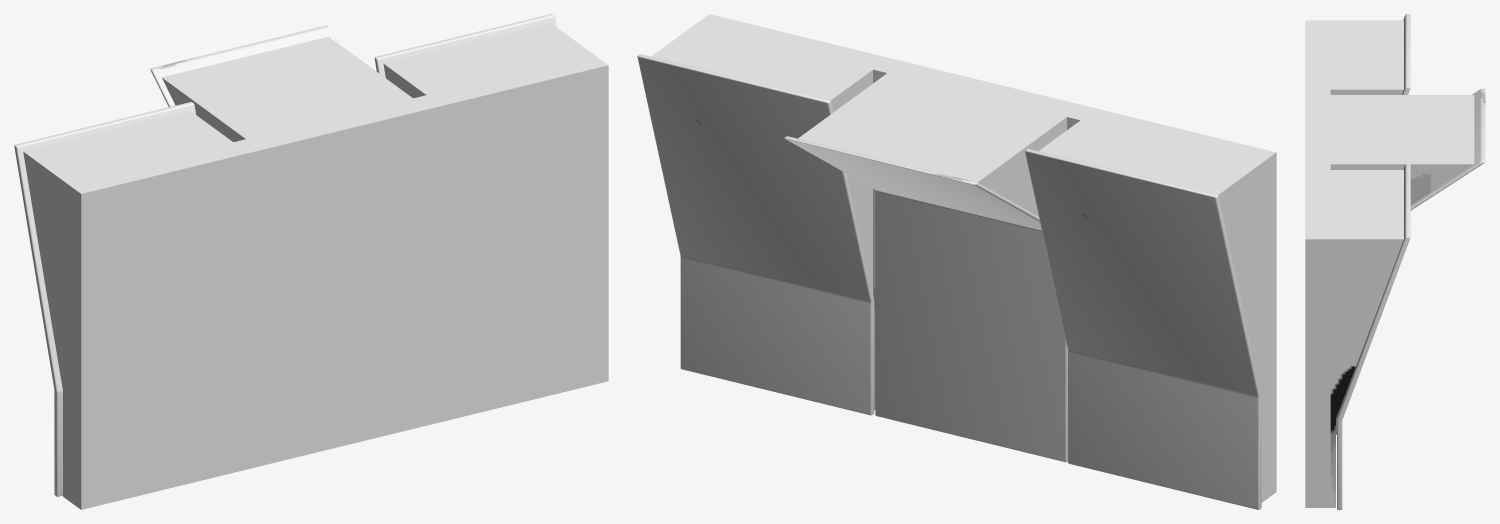
File: Small Wall.FBX
The picture shows the model from 3 angles, left to right: view 1: azimuth 30°, elevation 25°; view 2: azimuth 150°, elevation 25°; view 3: azimuth 270°, elevation 25°; orthographic projection. The views are drawn at different scales.
Visible parts, largest first — view 1: Object011; view 2: Object011; view 3: Object011.
Boxes of the visible parts, x1=… form: Object011: x1=14, y1=14, x2=608, y2=509; Object011: x1=637, y1=14, x2=1276, y2=509; Object011: x1=1305, y1=14, x2=1485, y2=509.
Size of the model in its own units: 17.3 by 9.86 by 5.91.
